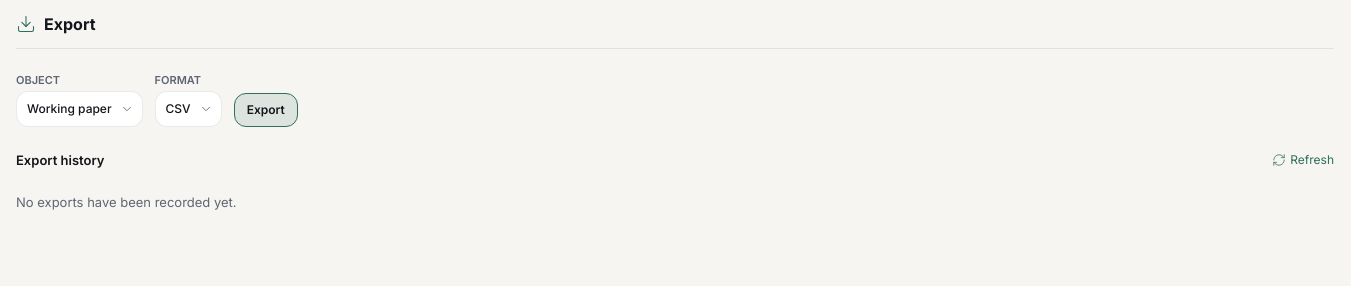
Test case: Phase 7 UI panels (7G) › ExportPanel › exports, records the hash and shows a confirmation chip
Expected: the text "No exports have been recorded yet." is shown, left=16, top=194, right=237, bottom=210
Click the button with test id "export-run".
click(266, 110)  # box left=234, top=93, right=298, bottom=127
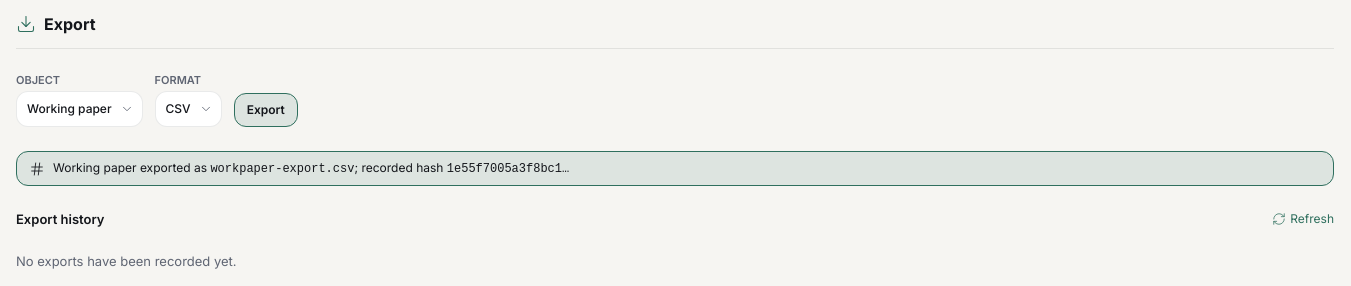
Expected: the element with test id "export-confirmation" is shown, left=16, top=151, right=1334, bottom=186
Expected: the text with test id "export-confirmation-hash" shows "…", left=562, top=162, right=569, bottom=176
